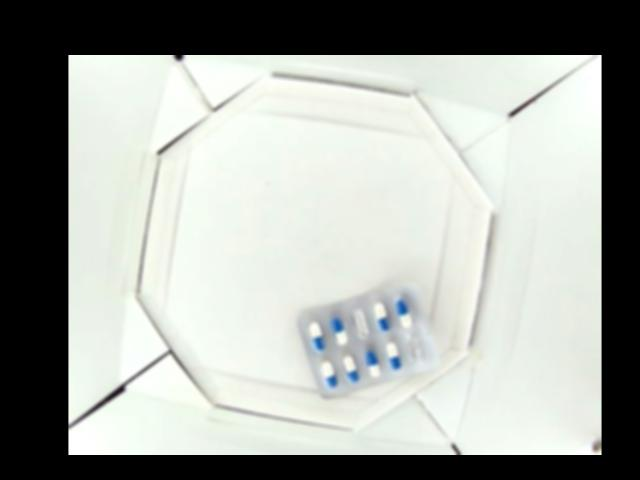Medicine: (297, 275, 440, 397)
